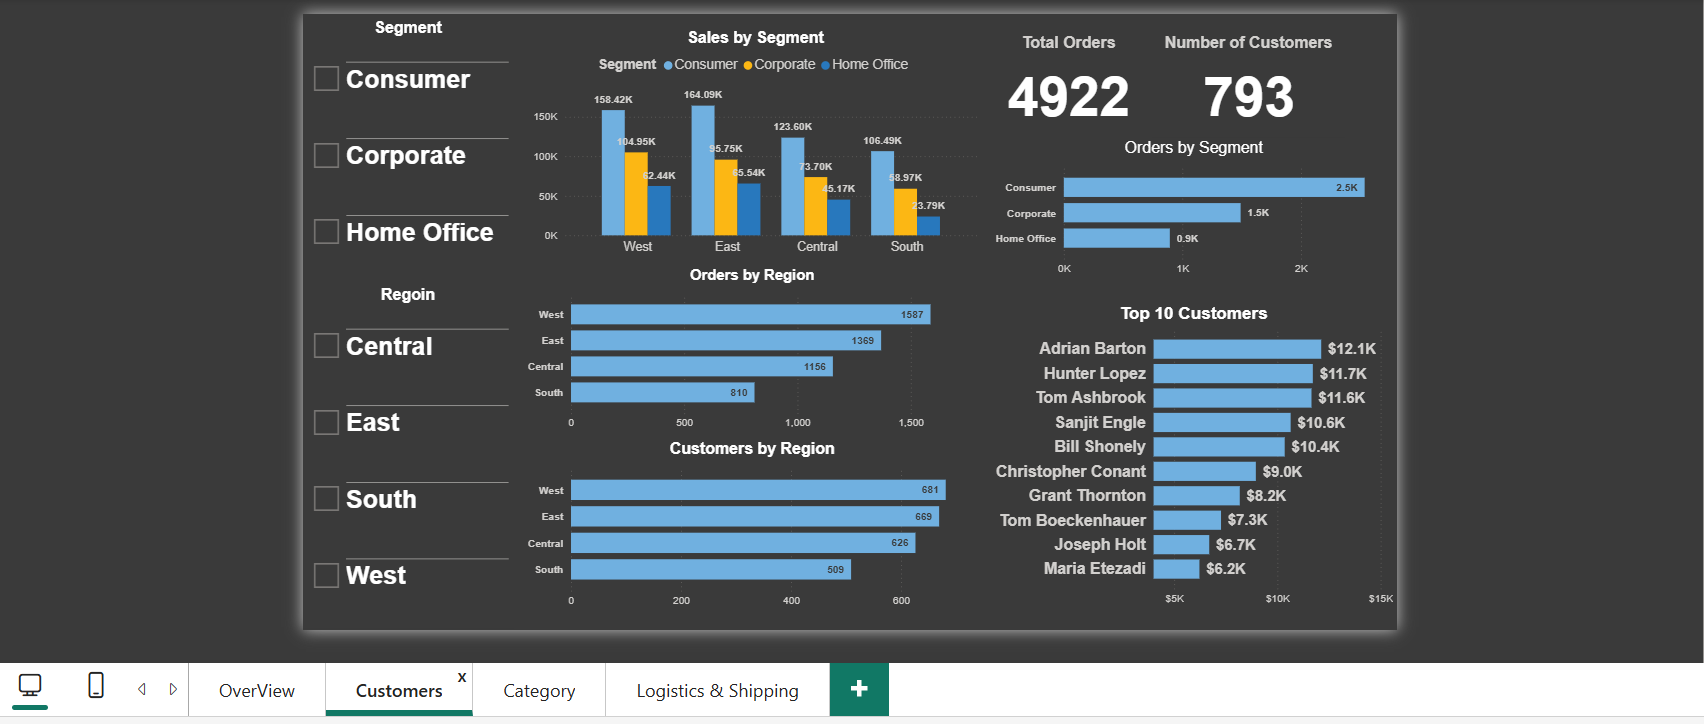

The page's visual inventory and layout, read from the dashboard file:
{"tool":"powerbi","page":{"name":"Customers","canvas":[1280,720],"ordinal":1},"visuals":[{"type":"clusteredBarChart","fields":{"Y":["train.Total Sales"],"Category":["train.Customer Name"]},"box":[803.5,333.4,476.6,366],"z":0},{"type":"clusteredColumnChart","title":"Sales by Segment","fields":{"Y":["Sum(train.Sales)"],"Series":["train.Segment"],"Category":["train.Region"]},"box":[264,18,532,272],"z":1000},{"type":"barChart","title":"Customers by Region","fields":{"Category":["train.Region"],"Y":["train.Num of Customers"]},"box":[257,497.7,538.4,203.3],"z":2000},{"type":"slicer","fields":{"Values":["train.Segment"]},"box":[0,0,245.7,359.1],"z":3000},{"type":"slicer","fields":{"Values":["train.Region"]},"box":[0,311.8,245.7,406.3],"z":4000},{"type":"card","fields":{"Values":["train.Customer Count"]},"box":[993.8,17.9,226.1,126.9],"z":5000},{"type":"barChart","fields":{"Category":["train.Region"],"Y":["CountNonNull(train.Order ID)"]},"box":[257,289.5,538.4,204.9],"z":6000},{"type":"barChart","title":"Orders by Segment","fields":{"Category":["train.Segment"],"Y":["train.Num of Orders"]},"box":[803.5,144.8,476.6,167.5],"z":7000},{"type":"card","fields":{"Values":["train.Total Orders"]},"box":[804,18,184,126],"z":8000}]}

Visuals, with their boxes on the page's 1280x720 design canvas (x1, y1, x2, y2). These are canvas units, not pixel positions in the 1704x724 screenshot, which may show the page scaled, cropped or inside an application window:
clusteredBarChart - train.Total Sales x train.Customer Name: 804:333:1280:699
"Sales by Segment" clusteredColumnChart: 264:18:796:290
"Customers by Region" barChart: 257:498:795:701
slicer - train.Segment: 0:0:246:359
slicer - train.Region: 0:312:246:718
card - train.Customer Count: 994:18:1220:145
barChart - train.Region x CountNonNull(train.Order ID): 257:290:795:494
"Orders by Segment" barChart: 804:145:1280:312
card - train.Total Orders: 804:18:988:144
